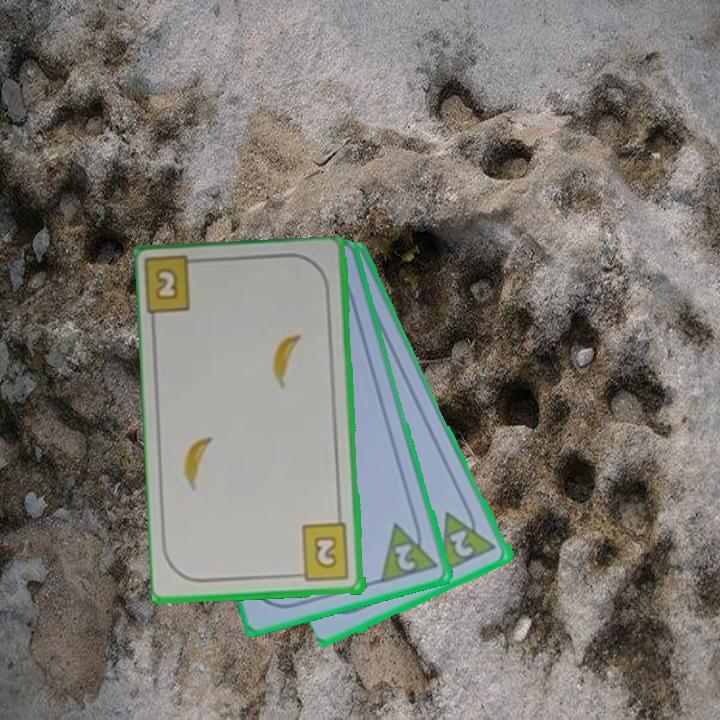2b: (291, 521, 353, 584), (152, 265, 181, 304)
2p: (437, 500, 500, 576), (377, 515, 441, 587)
